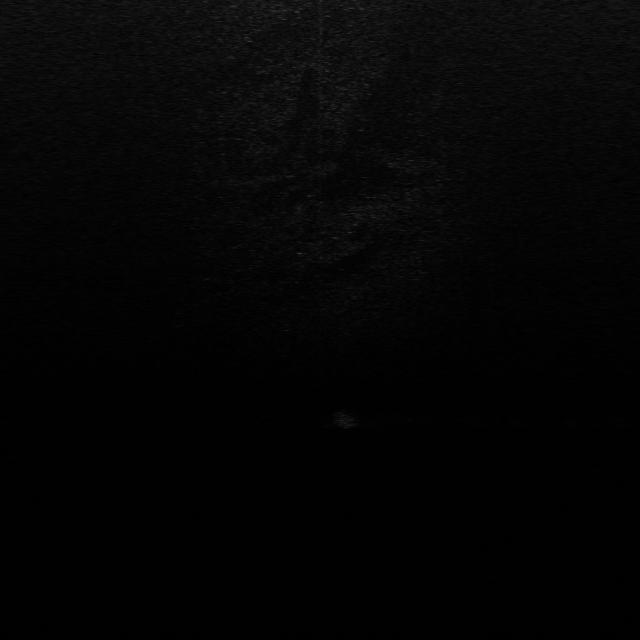circle cage: (324, 408, 364, 432)
